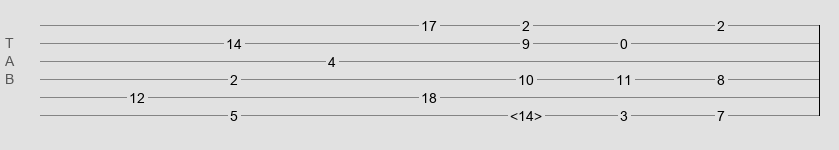0: (620, 36, 628, 46)
10: (518, 72, 534, 82)
11: (616, 72, 632, 82)
12: (129, 90, 145, 100)
14: (226, 36, 242, 46)
17: (421, 18, 437, 28)
18: (421, 90, 437, 100)
2: (230, 72, 238, 82), (522, 18, 530, 28), (717, 18, 725, 28)
3: (620, 108, 628, 118)
4: (328, 54, 336, 64)
5: (230, 108, 238, 118)
7: (717, 108, 725, 118)
8: (717, 72, 725, 82)
9: (522, 36, 530, 46)
harmonic: (510, 108, 542, 118)
